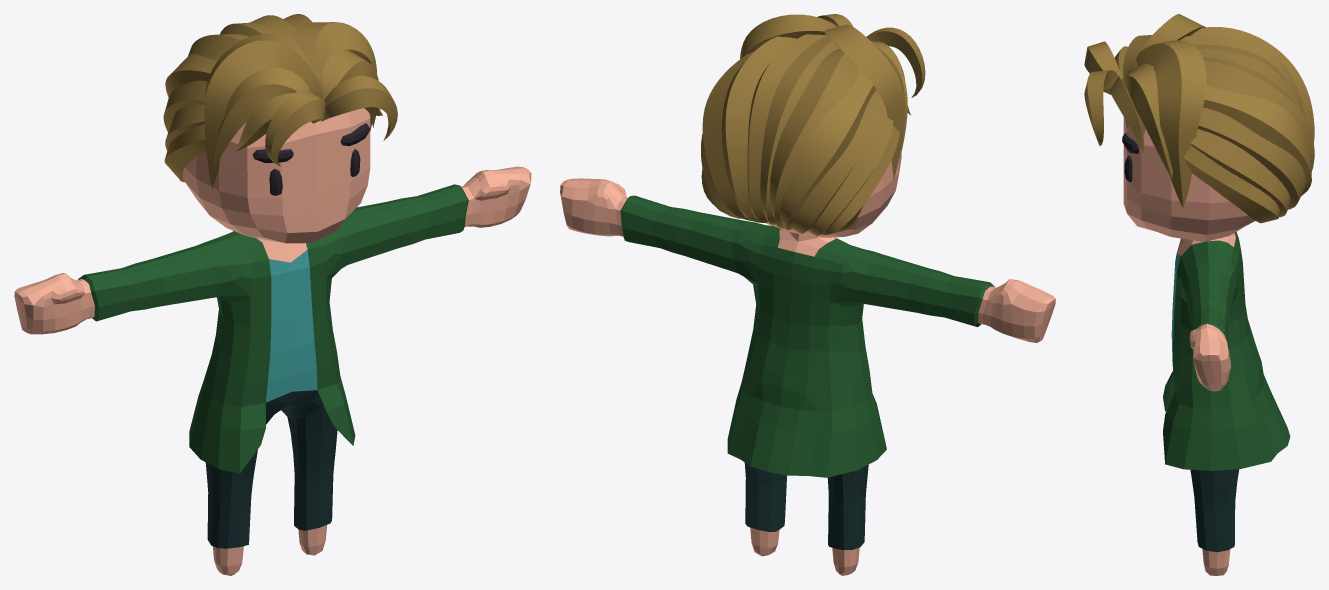
The model's file is MainCharacter.fbx.
The picture shows the model from 3 angles, left to right: view 1: azimuth 30°, elevation 25°; view 2: azimuth 150°, elevation 25°; view 3: azimuth 270°, elevation 25°; orthographic projection. The views are drawn at different scales.
Visible parts, largest first — view 1: Body; view 2: Body; view 3: Body.
Part boxes in pixels (left/top/right/bottom): Body: left=14, top=14, right=531, bottom=575; Body: left=560, top=14, right=1055, bottom=575; Body: left=1084, top=14, right=1314, bottom=575.
Size of the model in its own units: 324 by 333 by 132.
